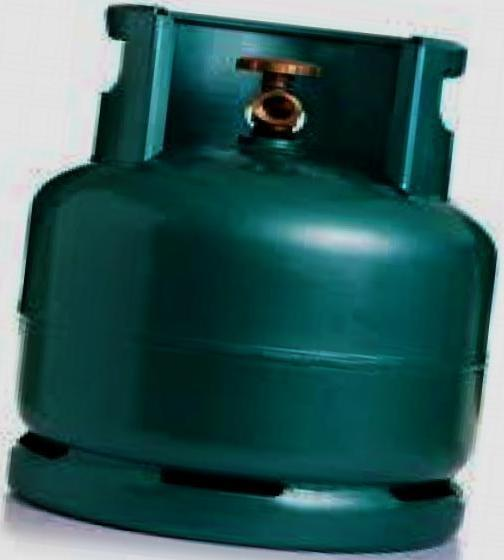cylinder: (1, 0, 504, 560)
